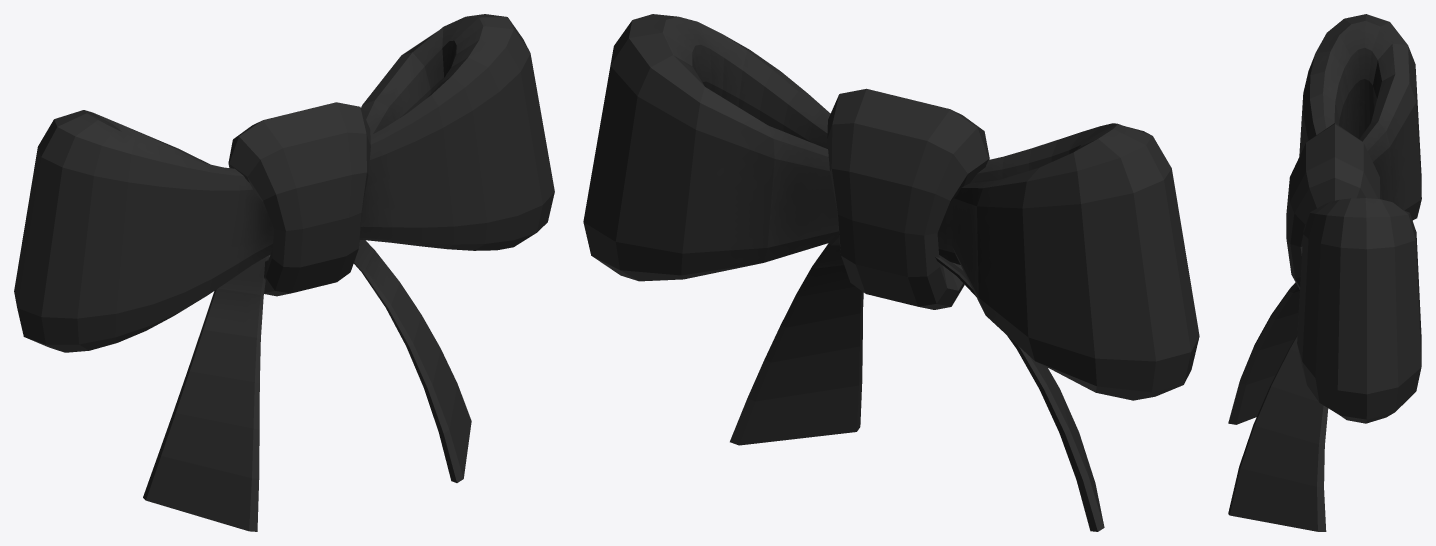
The model's file is bowtie.gltf.
3 views of the same model, side by side, from view 1: azimuth 30°, elevation 25°; view 2: azimuth 150°, elevation 25°; view 3: azimuth 270°, elevation 25° (orthographic). The views are drawn at different scales.
Parts seen in each view (by area): view 1: bowtie; view 2: bowtie; view 3: bowtie.
Boxes of the visible parts, x1,y1,x2,y2 form: bowtie: [14, 14, 554, 531]; bowtie: [583, 14, 1199, 531]; bowtie: [1228, 14, 1421, 531].
Bounding box in the file's own units: 1 × 0.7005 × 0.3416.
1 material, 1 textured.
